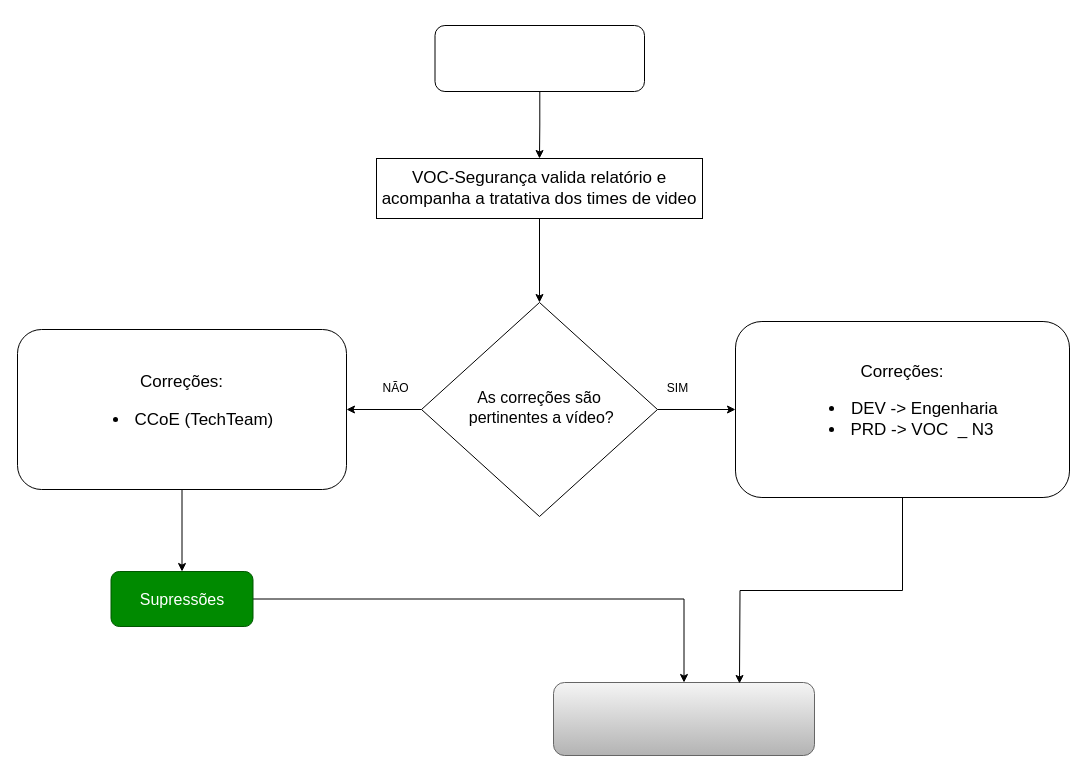
This 1087x773 diagram has some shape labels left out. The shapes that lost their labels are listed below. From the top down, each one's centre as x and y in pixels, then its label:
pixel 539 58: Equipe de Segurança/Gestão vulnerabilidades gera e entrega relatório
pixel 683 719: Avaliação de correções / Mitgações
